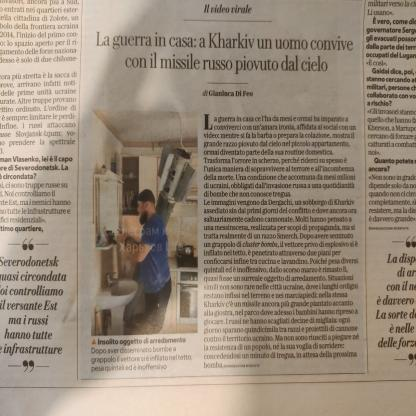immagine: (88, 106, 199, 334)
testo_col: (200, 107, 364, 372)
titolo: (87, 22, 359, 81)
